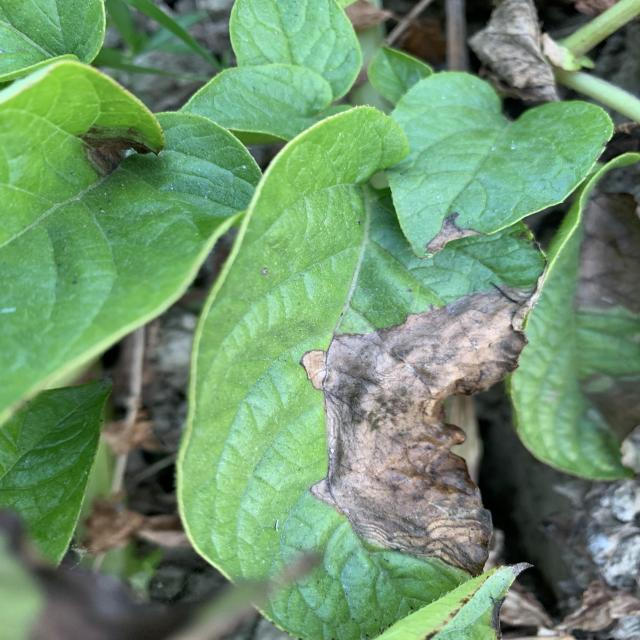lateblight: (302, 286, 533, 575), (575, 191, 640, 312), (427, 212, 482, 254)
